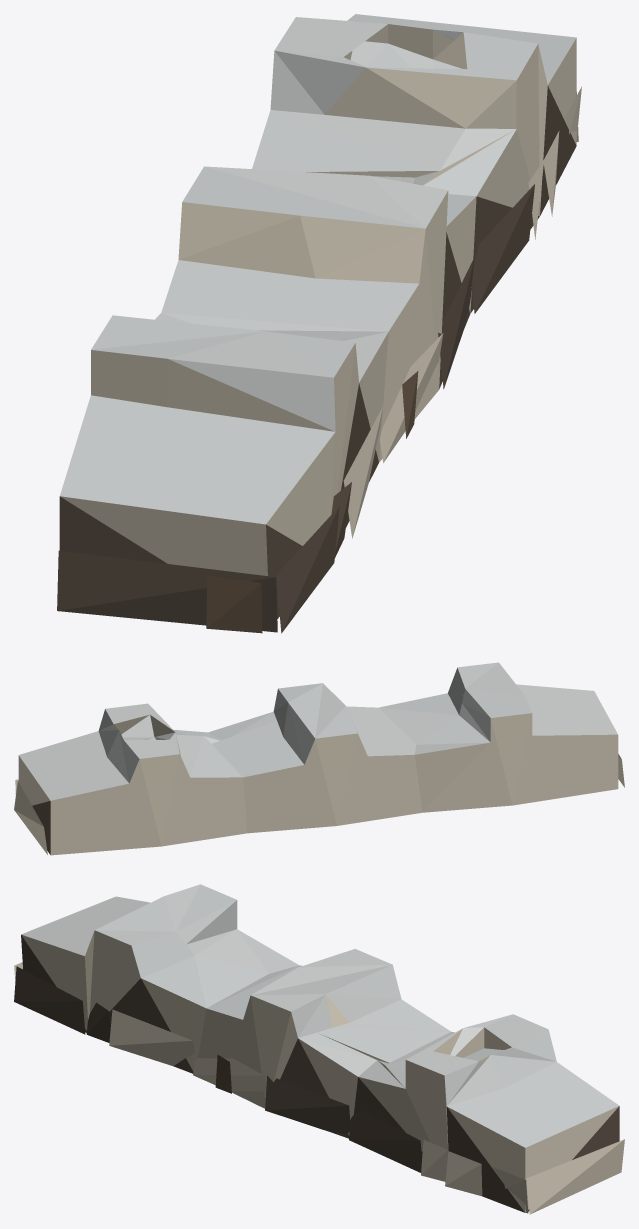
The model's file is depot-scheepvaartmuseum.lod2.glb.
3 renders of one model, top to bottom at view 1: azimuth 30°, elevation 25°; view 2: azimuth 150°, elevation 25°; view 3: azimuth 270°, elevation 25°, orthographic. The views are drawn at different scales.
Visible parts, largest first — view 1: lod2; view 2: lod2; view 3: lod2.
Part boxes in pixels (left/top/right/bottom): lod2: left=57, top=14, right=581, bottom=633; lod2: left=14, top=662, right=624, bottom=855; lod2: left=14, top=884, right=624, bottom=1214.
Size of the model in its own units: 74.04 by 14.84 by 74.87.
